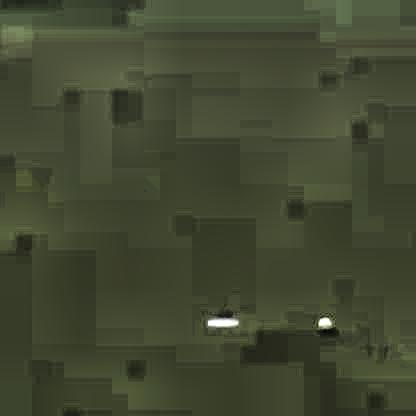golfball: (315, 314, 331, 330)
